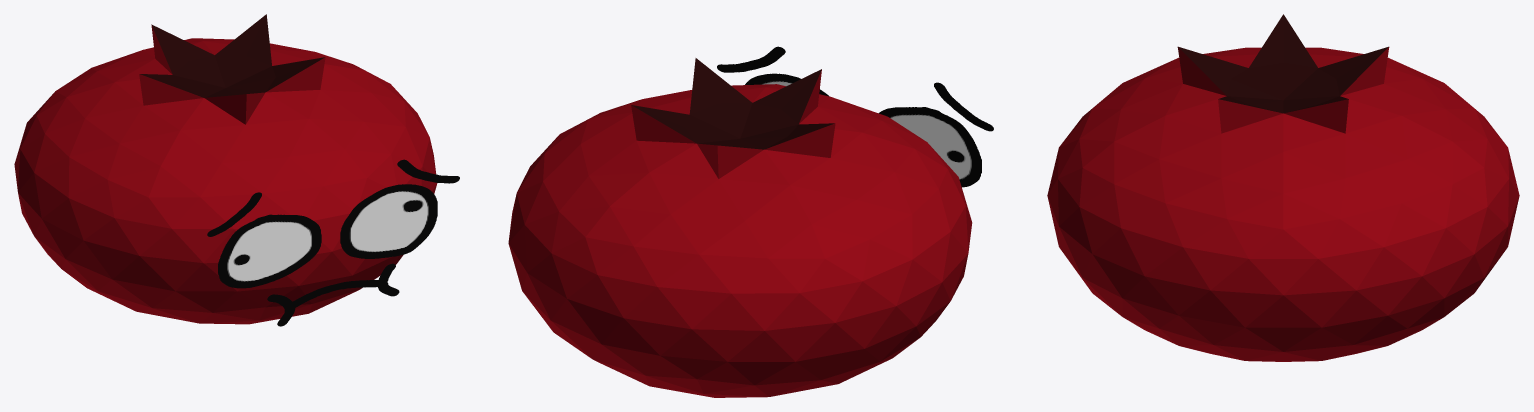
Rendered from pomegranate_000001.obj.
3 renders of one model, left to right at view 1: azimuth 30°, elevation 25°; view 2: azimuth 150°, elevation 25°; view 3: azimuth 270°, elevation 25°, orthographic. The views are drawn at different scales.
Parts seen in each view (by area): view 1: Icosphere, Plane; view 2: Icosphere, Plane; view 3: Icosphere.
Part boxes in pixels (<box>): Icosphere: <box>14,14,437,324</box>; Plane: <box>207,159,459,326</box>; Icosphere: <box>508,58,972,397</box>; Plane: <box>717,46,993,187</box>; Icosphere: <box>1047,14,1519,361</box>.
Size of the model in its own units: 2.2 by 1.39 by 2.2.
